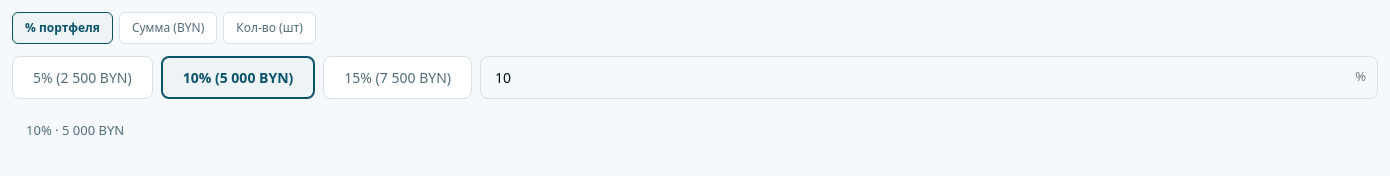
Test: PositionSizeControl › блокирует количество без выбранной бумаги
Click the button "Кол-во (шт)".
click(270, 28)  # box [223,12,316,44]
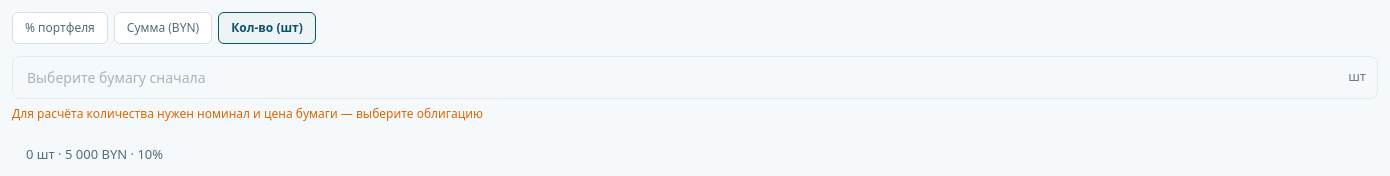
Expected: the field named "Количество облигаций" is disabled, [12,56,1378,99]
Expected: the text "выберите облигацию" is shown, [12,105,483,122]
